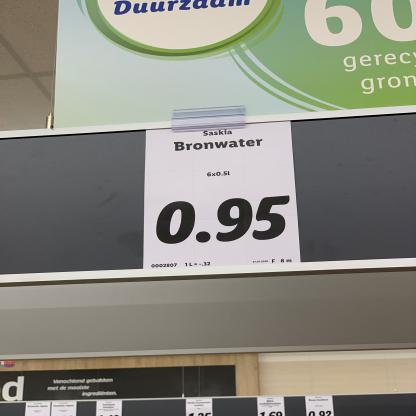prtg: (144, 122, 302, 269)
